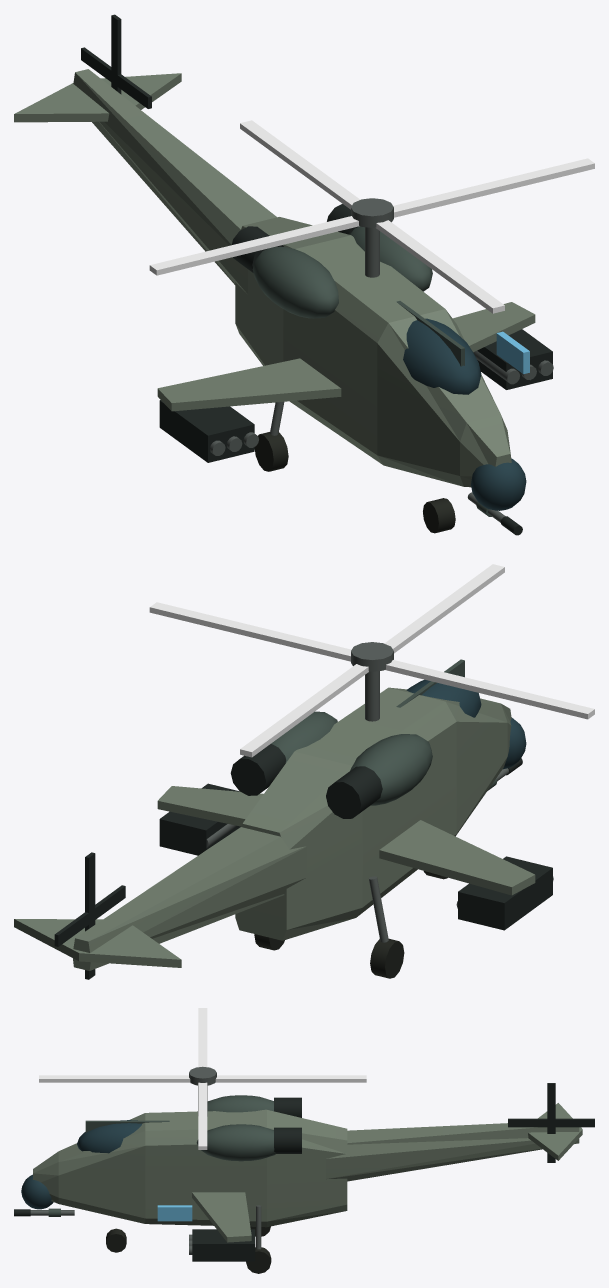
Rendered from heli.glb.
The picture shows the model from 3 angles, top to bottom: view 1: azimuth 30°, elevation 25°; view 2: azimuth 150°, elevation 25°; view 3: azimuth 270°, elevation 25°; orthographic projection. The views are drawn at different scales.
Visible parts, largest first — view 1: armor, equipment (×4), glass, marking; view 2: armor, equipment (×4), glass; view 3: armor, equipment (×5), glass, marking.
Boxes of the visible parts, left/top/right/bottom form: armor: left=14, top=69, right=535, bottom=487; equipment (×4): left=81, top=14, right=594, bottom=533; glass: left=403, top=318, right=526, bottom=510; marking: left=496, top=331, right=529, bottom=374; armor: left=14, top=687, right=535, bottom=970; equipment (×4): left=54, top=564, right=594, bottom=979; glass: left=406, top=676, right=526, bottom=769; armor: left=33, top=1103, right=582, bottom=1242; equipment (×5): left=14, top=1008, right=594, bottom=1273; glass: left=21, top=1120, right=141, bottom=1209; marking: left=157, top=1205, right=192, bottom=1221.
Size of the model in its own units: 4.7 by 2.86 by 8.34.
